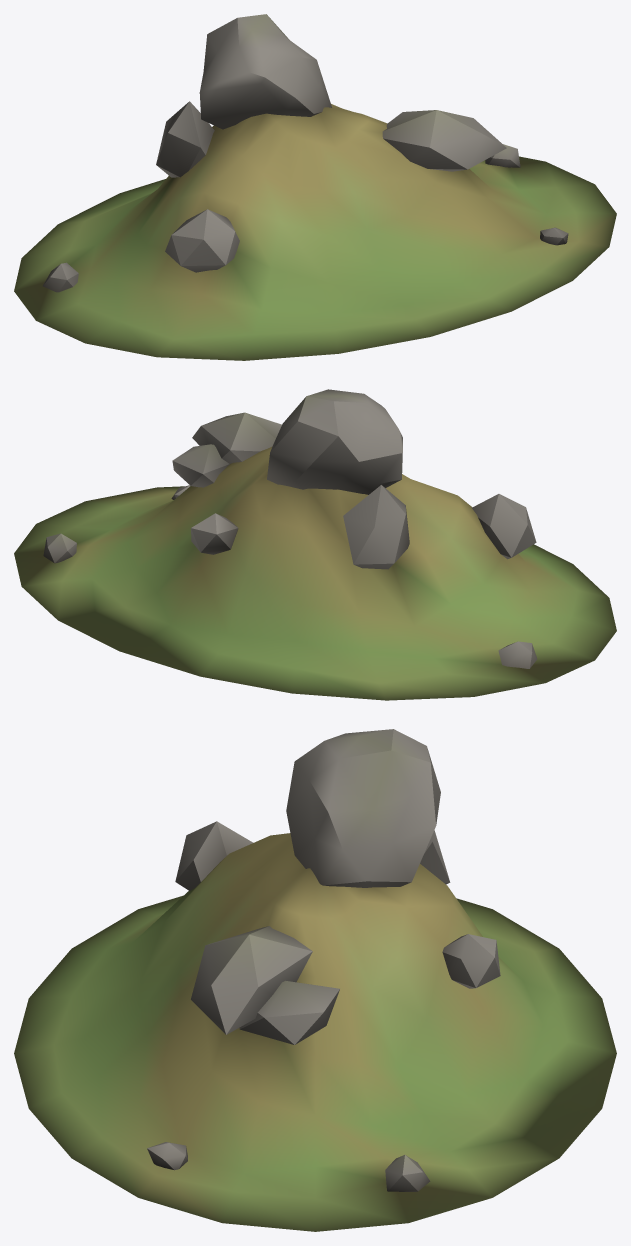
The model's file is hill.glb.
3 renders of one model, top to bottom at view 1: azimuth 30°, elevation 25°; view 2: azimuth 150°, elevation 25°; view 3: azimuth 270°, elevation 25°, orthographic. The views are drawn at different scales.
Parts seen in each view (by area): view 1: Grass mound.001, Granite outcrops.001; view 2: Grass mound.001, Granite outcrops.001; view 3: Grass mound.001, Granite outcrops.001.
Part boxes in pixels (x1,y1,x2,y2): Grass mound.001: [14, 104, 616, 360]; Granite outcrops.001: [43, 14, 568, 292]; Grass mound.001: [14, 446, 616, 700]; Granite outcrops.001: [43, 389, 537, 668]; Grass mound.001: [14, 833, 616, 1231]; Granite outcrops.001: [147, 729, 500, 1191].
Bounding box in the file's own units: 14 × 5.52 × 10.
